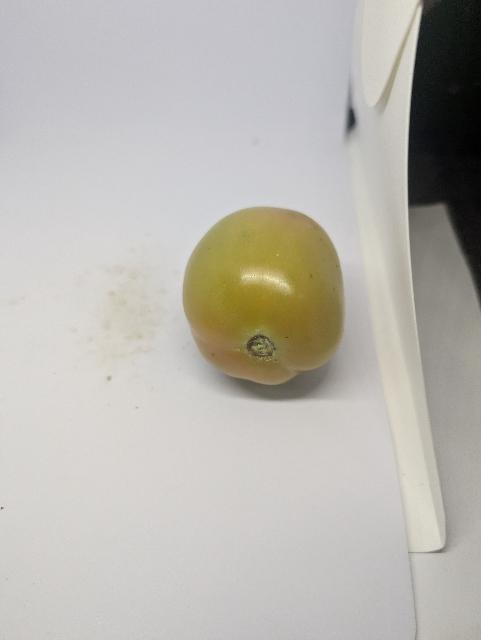breaker: (183, 207, 345, 385)
